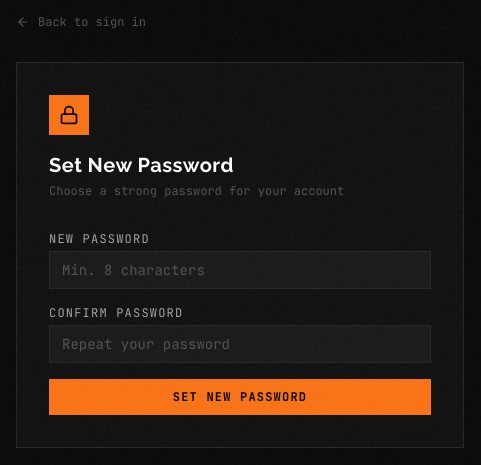
it: ResetPasswordPage › shows success message after reset
The image size is (481, 465).
Type "newpassword123" into the password field labelled "New Password" at {"x": 240, "y": 270}, box [49,251,431,289]
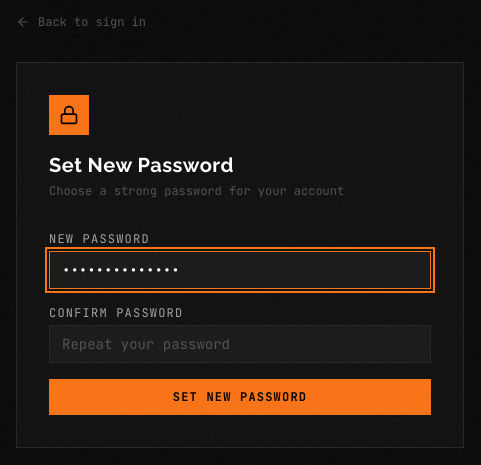
Type "newpassword123" into the password field labelled "Confirm Password" at {"x": 240, "y": 344}, box [49,325,431,363]
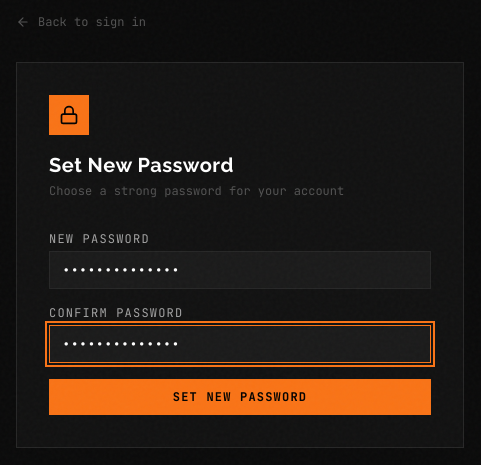
Click the button "Set New Password" at {"x": 240, "y": 397}, box [49,379,431,415]
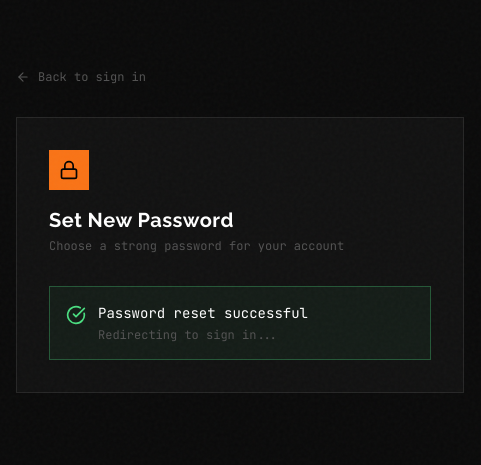
Expected: the text "Password reset successful" is shown, [98,303,308,323]
